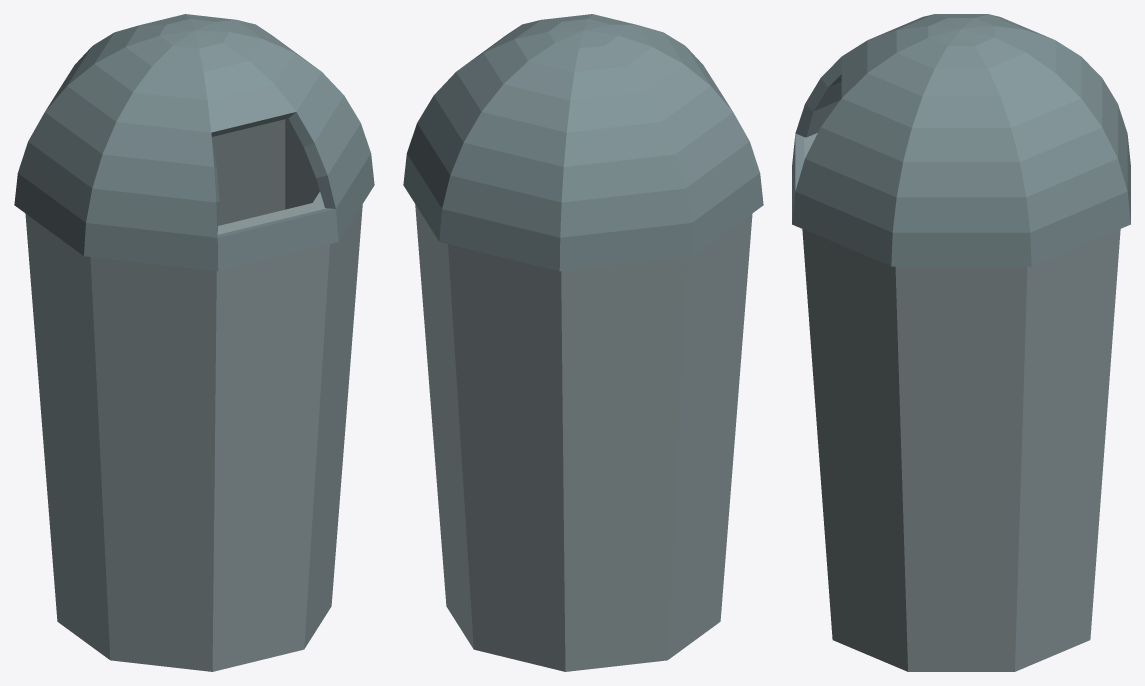
The model's file is Trash_01.fbx.
The picture shows the model from 3 angles, left to right: view 1: azimuth 30°, elevation 25°; view 2: azimuth 150°, elevation 25°; view 3: azimuth 270°, elevation 25°; orthographic projection.
Visible parts, largest first — view 1: Trash_01; view 2: Trash_01; view 3: Trash_01.
Boxes of the visible parts, left/top/right/bottom form: Trash_01: left=14, top=14, right=374, bottom=671; Trash_01: left=403, top=14, right=763, bottom=671; Trash_01: left=792, top=14, right=1130, bottom=671.
Bounding box in the file's own units: 48.08 × 92.19 × 48.08.
